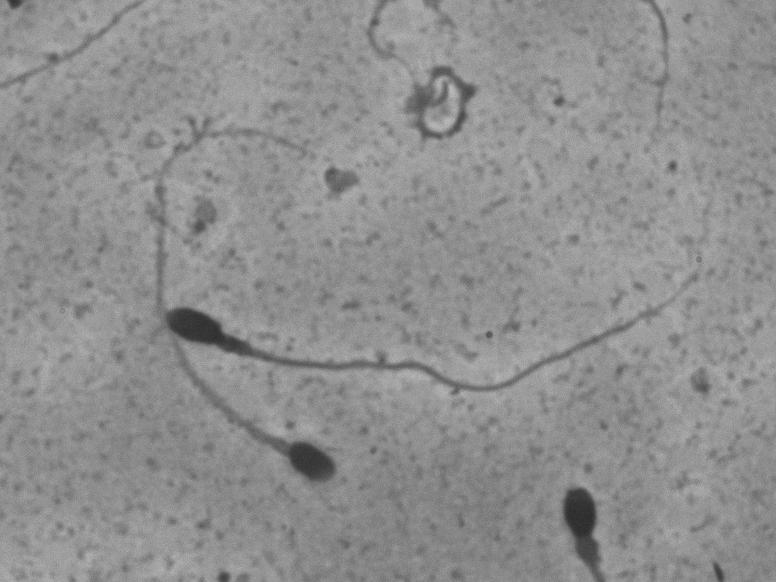Abnormal: (158, 185, 731, 400), (159, 393, 394, 526), (516, 475, 648, 571)
